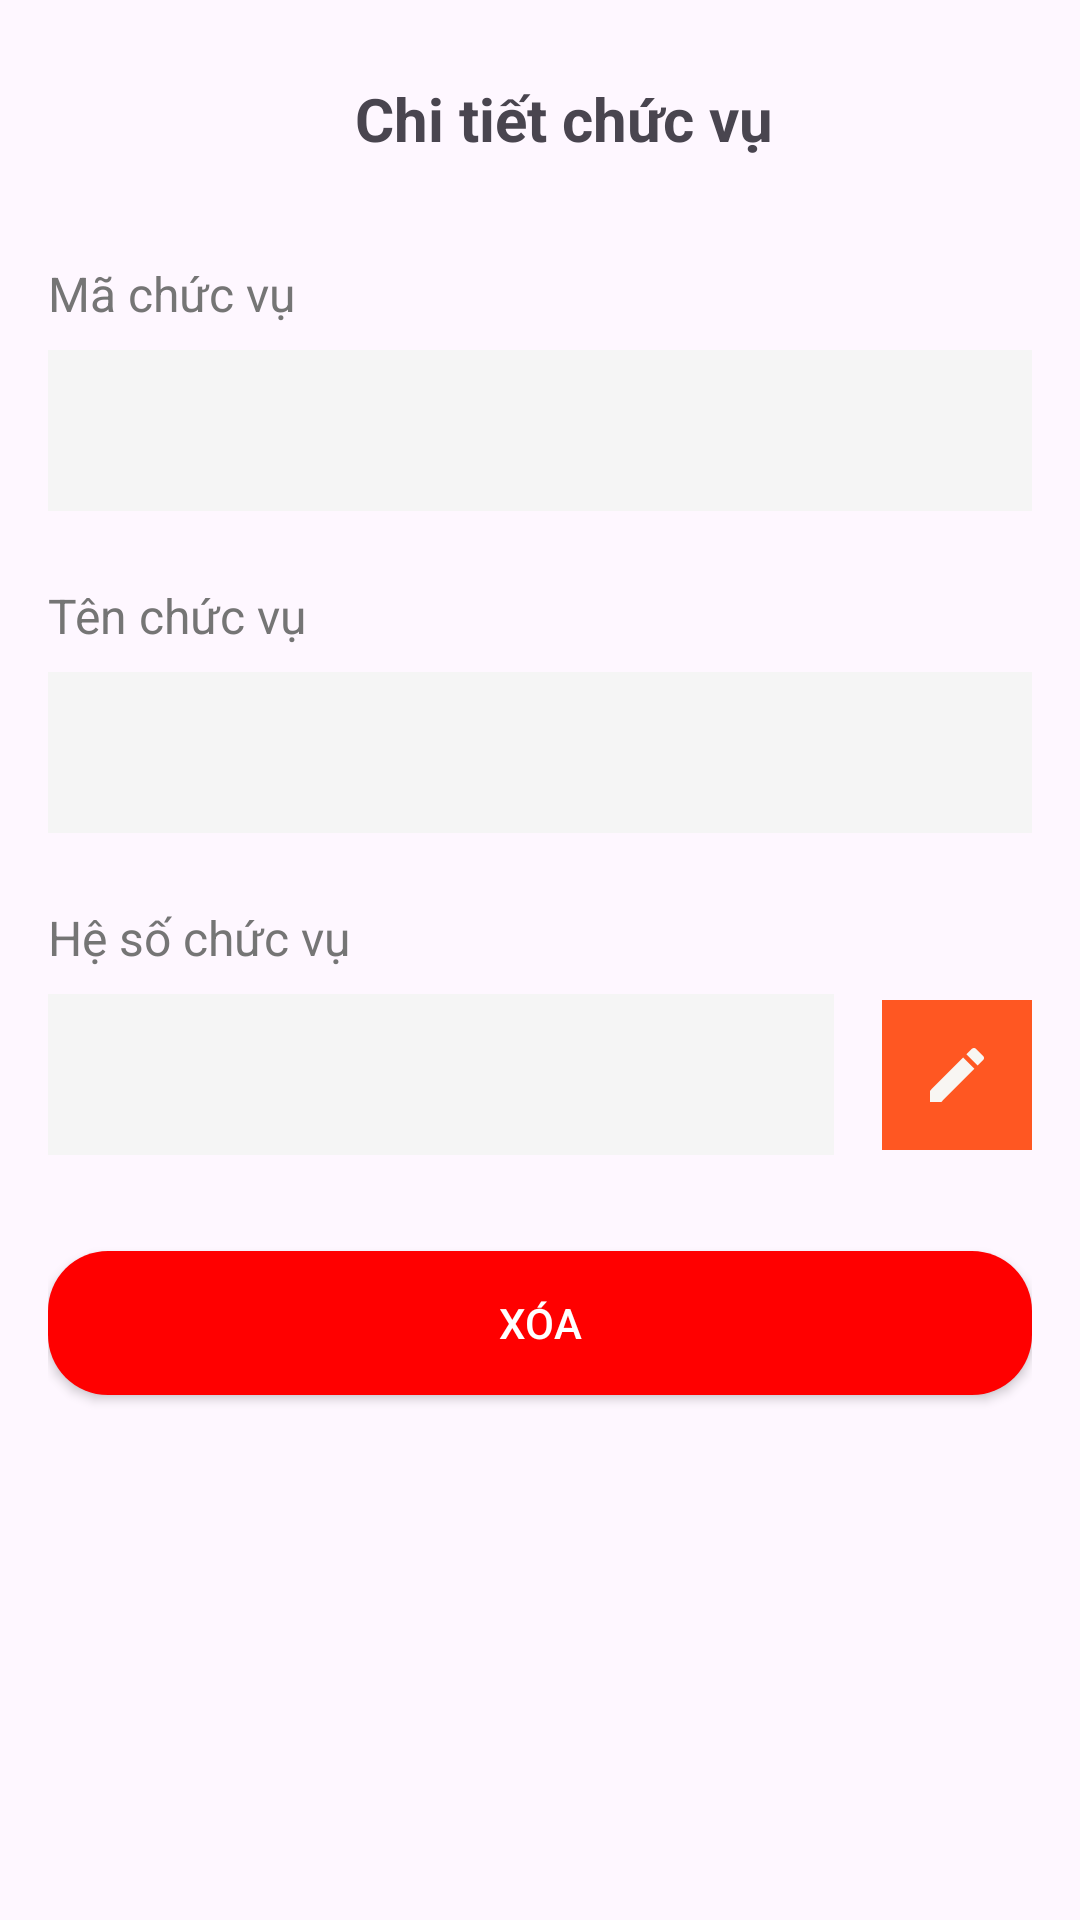

Screen size 1080x1920. Icon name, then its center in pixels as point (x, y):
edit: point (957, 1075)
